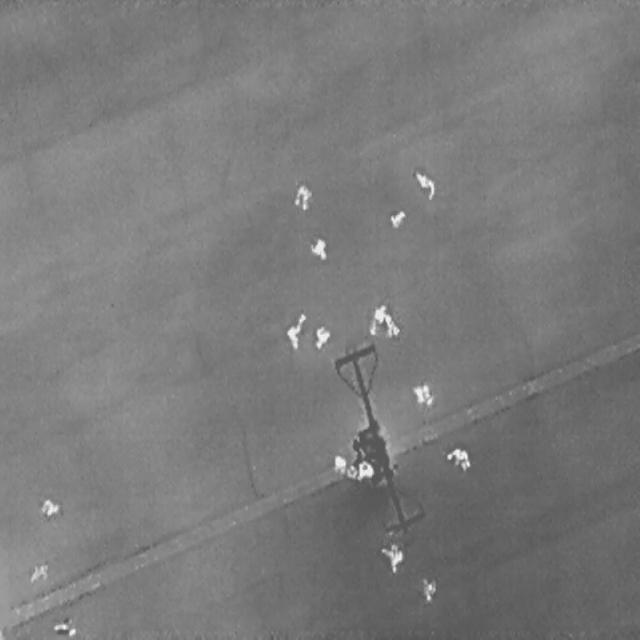Person: (282, 308, 310, 350), (410, 164, 438, 198), (378, 542, 403, 572), (365, 301, 387, 335), (380, 311, 400, 339), (445, 448, 469, 470), (385, 205, 407, 227), (412, 381, 432, 405), (294, 182, 310, 210), (310, 234, 325, 260), (52, 620, 78, 634), (314, 325, 329, 347), (421, 578, 436, 600), (357, 459, 372, 480), (40, 499, 58, 516), (333, 454, 344, 474)
